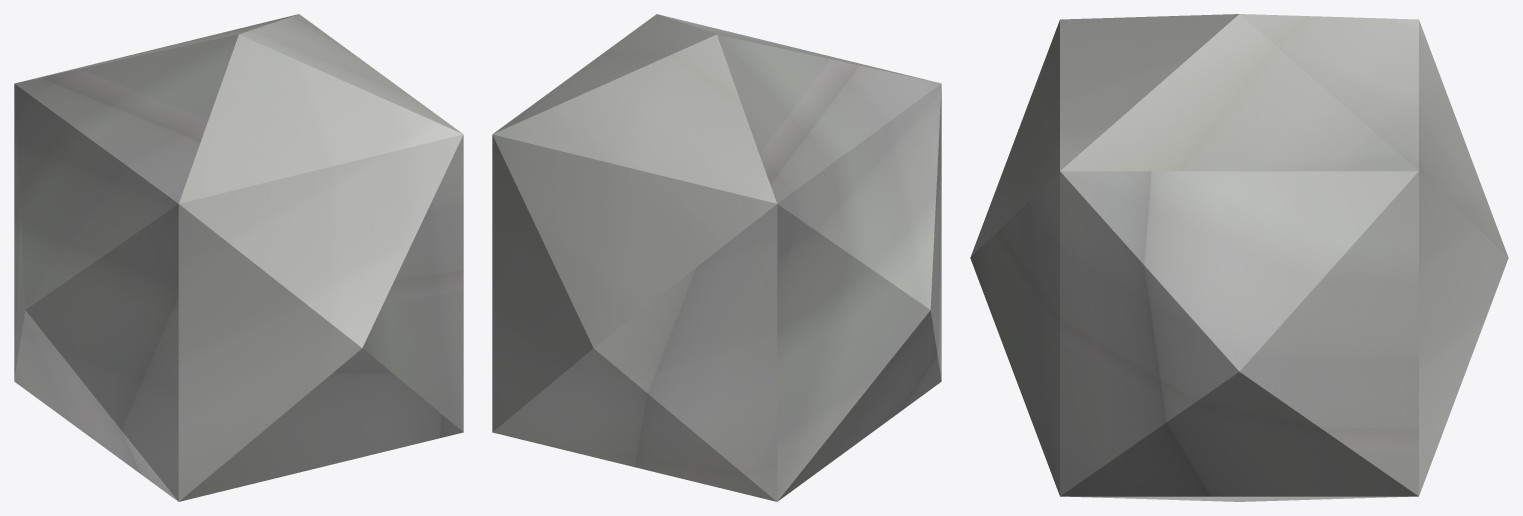
File: texturedStar.obj
3 views of the same model, side by side, from view 1: azimuth 30°, elevation 25°; view 2: azimuth 150°, elevation 25°; view 3: azimuth 270°, elevation 25° (orthographic). The views are drawn at different scales.
Visible parts, largest first — view 1: Cube.001; view 2: Cube.001; view 3: Cube.001.
Part boxes in pixels (box(x1,y1,x2,y2)): Cube.001: box(14, 14, 463, 501); Cube.001: box(492, 14, 941, 501); Cube.001: box(970, 14, 1508, 501).
Size of the model in its own units: 3 by 3 by 3.
